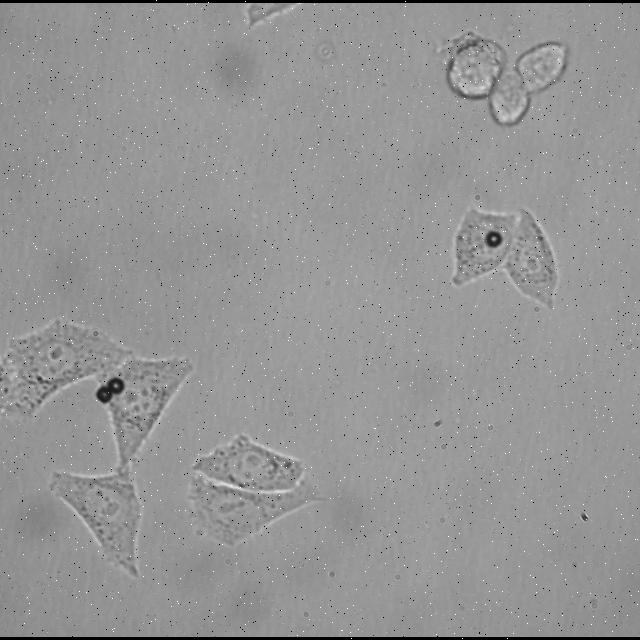microbeads: (95, 384, 114, 406), (106, 376, 124, 396), (484, 230, 500, 248)
